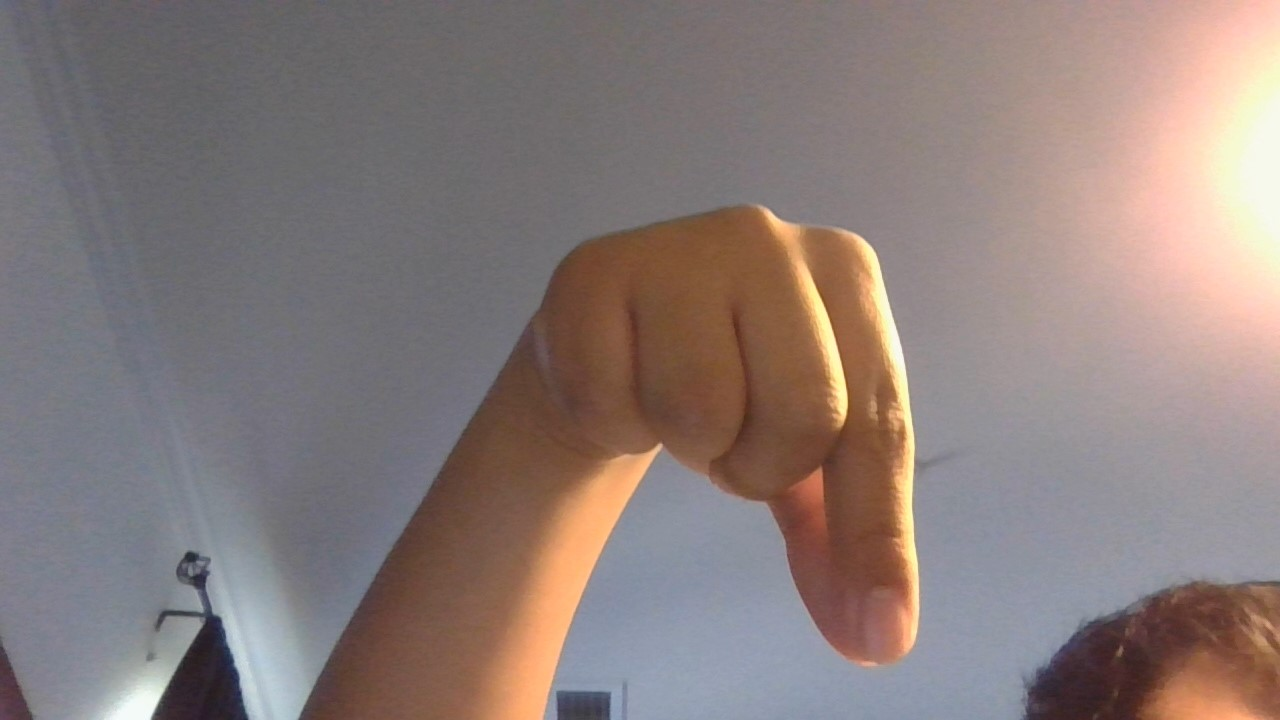q: (512, 205, 979, 720)
